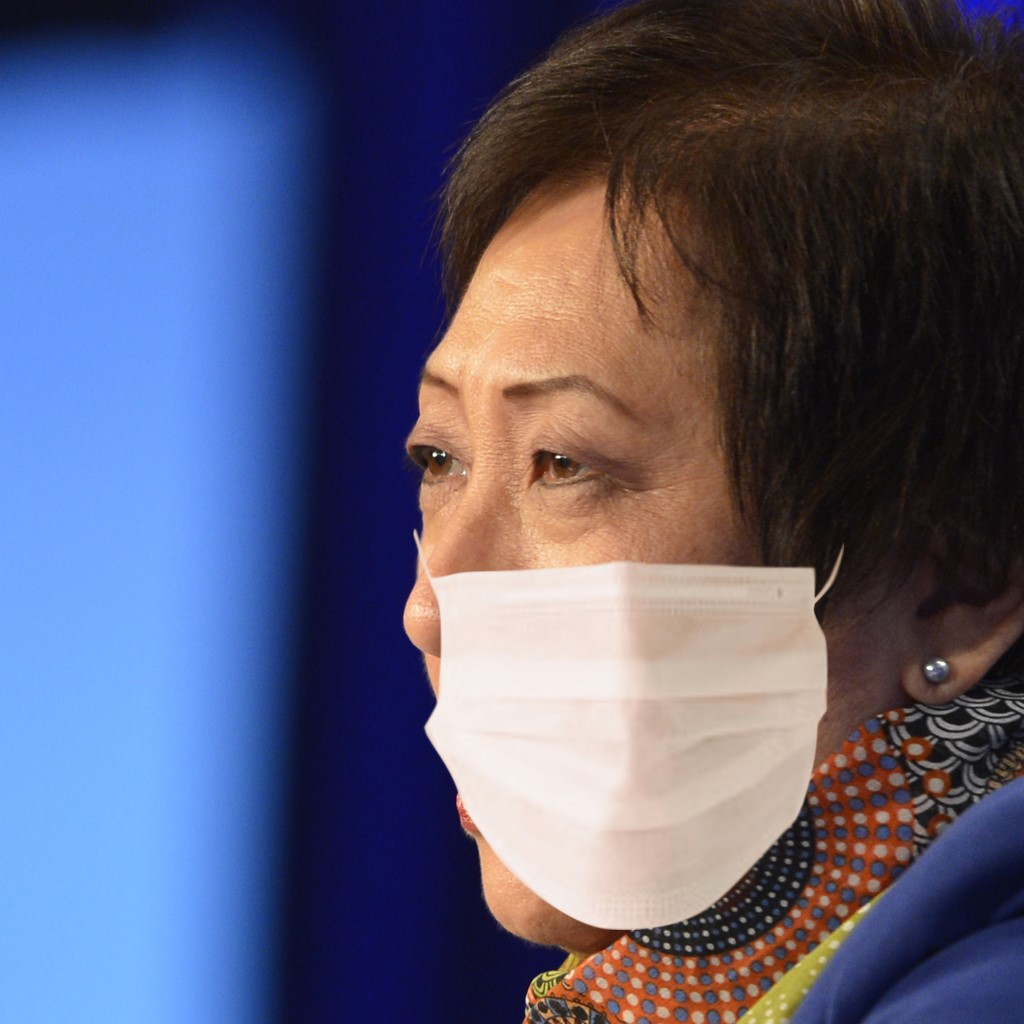con_mascara: (372, 134, 884, 966)
